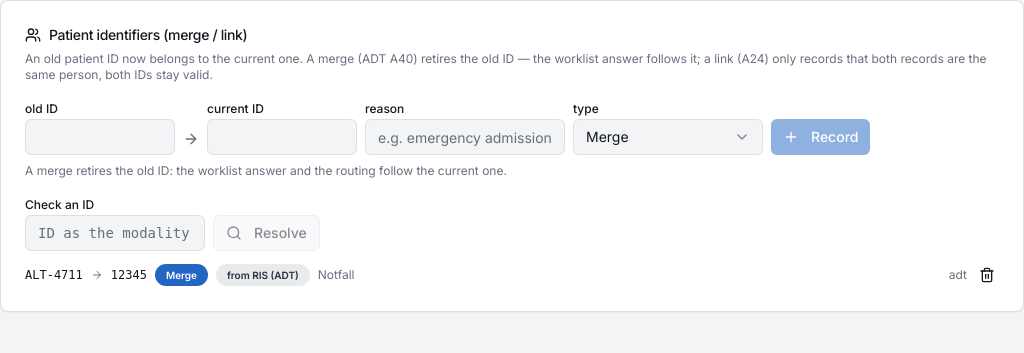
Test: PatientMergeCard › refuses two identical IDs before sending anything
Expected: the list with test id "merge-list" is shown, x1=25 y1=263 x2=999 y2=287
Type "SAME-1" into the field labelled "old ID" at (100, 137), box x1=25 y1=119 x2=175 y2=155
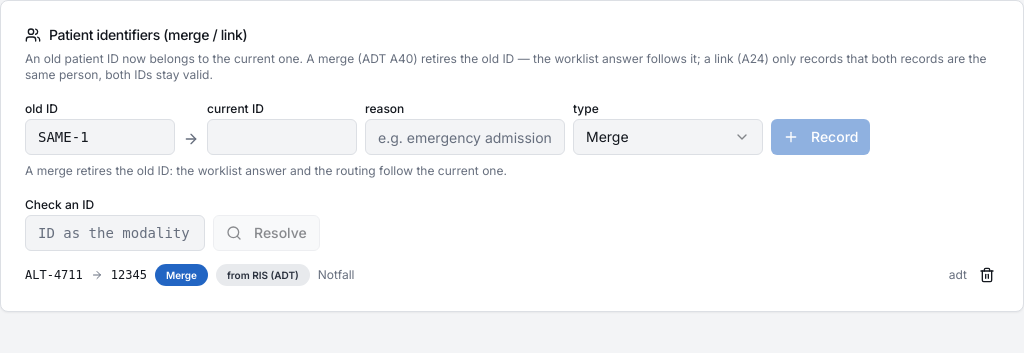
Type "SAME-1" into the field labelled "current ID" at (282, 137), box x1=207 y1=119 x2=357 y2=155
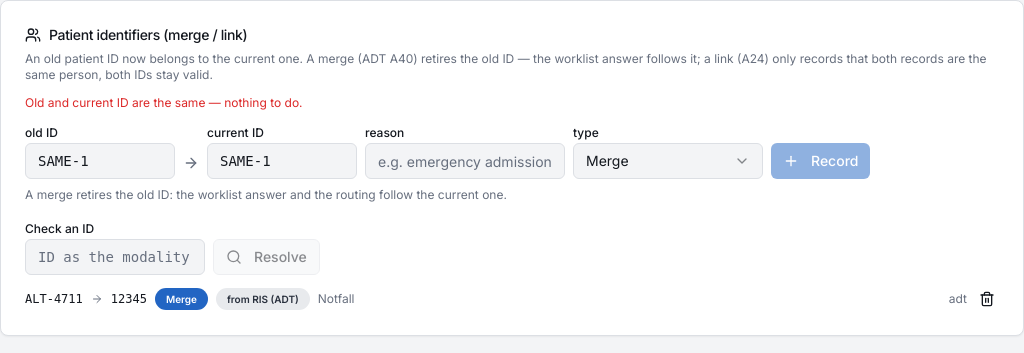
Expected: the button "Record" is disabled, x1=771 y1=143 x2=870 y2=179
Expected: the message with test id "pir-same-id" reads "Old and current ID are the same — nothing to do.", x1=25 y1=95 x2=302 y2=110
